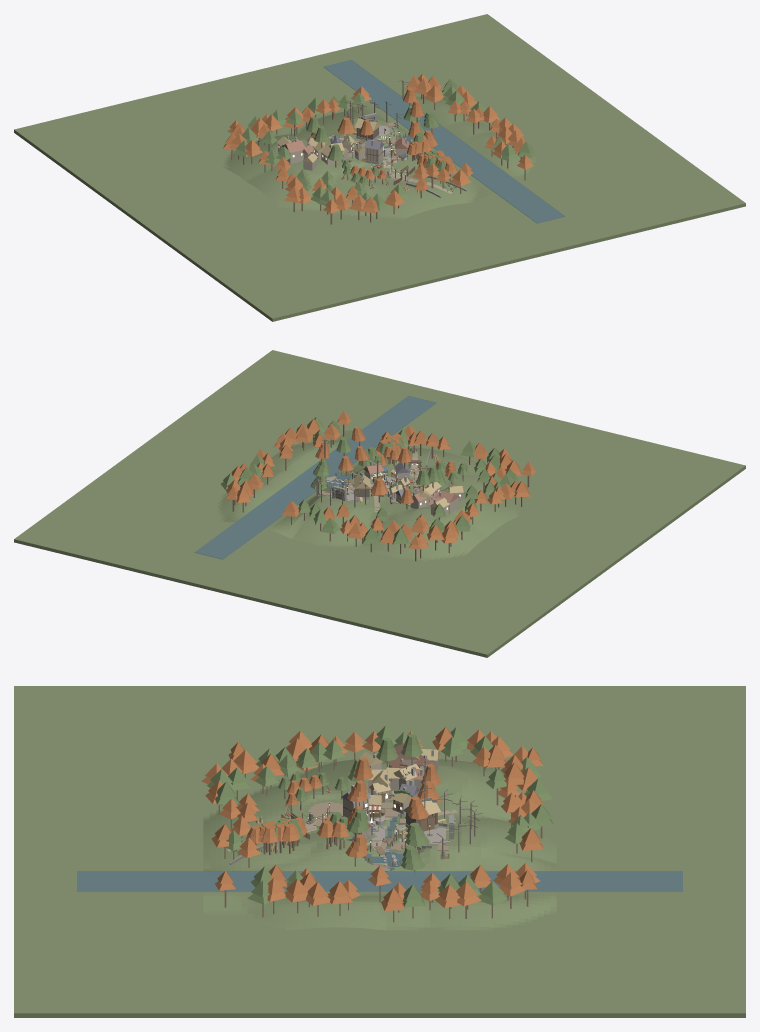
The picture shows the model from 3 angles, top to bottom: view 1: azimuth 30°, elevation 25°; view 2: azimuth 150°, elevation 25°; view 3: azimuth 270°, elevation 25°; orthographic projection. The views are drawn at different scales.
Parts seen in each view (by area): view 1: emb_ground_far, emb_ground_valley, water_emb_river; view 2: emb_ground_far, emb_ground_valley, water_emb_river; view 3: emb_ground_far, emb_ground_valley, water_emb_river.
Part boxes in pixels (left/top/right/bottom): emb_ground_far: left=14, top=14, right=745, bottom=321; emb_ground_valley: left=197, top=89, right=564, bottom=238; water_emb_river: left=323, top=60, right=564, bottom=223; emb_ground_far: left=14, top=350, right=745, bottom=657; emb_ground_valley: left=195, top=425, right=562, bottom=574; water_emb_river: left=195, top=396, right=436, bottom=559; emb_ground_far: left=14, top=686, right=745, bottom=1017; emb_ground_valley: left=203, top=759, right=556, bottom=930; water_emb_river: left=77, top=871, right=682, bottom=891.
Size of the model in its own units: 184 by 25.27 by 174.
